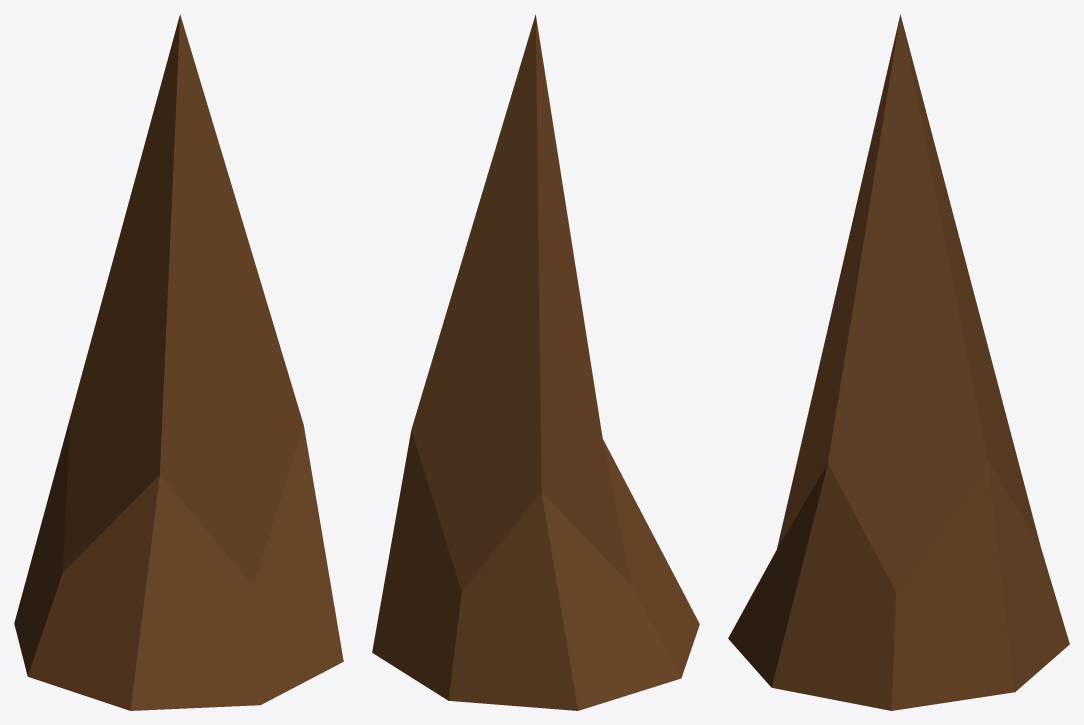
The model's file is estalag 2.fbx.
3 views of the same model, side by side, from view 1: azimuth 30°, elevation 25°; view 2: azimuth 150°, elevation 25°; view 3: azimuth 270°, elevation 25° (orthographic).
Visible parts, largest first — view 1: estalagmite 2; view 2: estalagmite 2; view 3: estalagmite 2.
Part boxes in pixels (x1,y1,x2,y2): estalagmite 2: (14, 14, 343, 710); estalagmite 2: (372, 14, 699, 710); estalagmite 2: (728, 14, 1069, 710).
Bounding box in the file's own units: 344 × 698 × 343.
